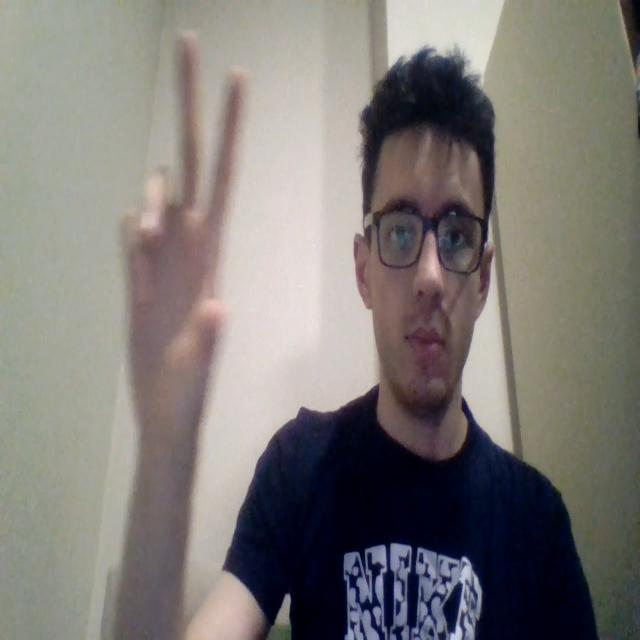no: (119, 27, 248, 450)
